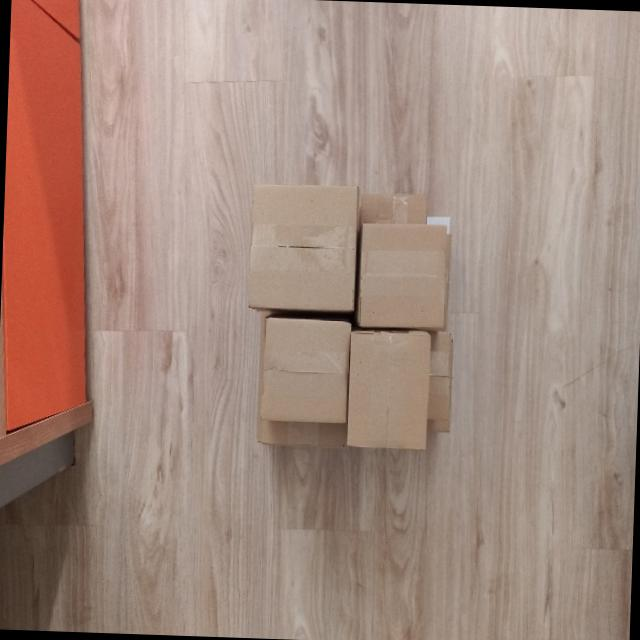box: (241, 178, 362, 318), (342, 326, 434, 454), (353, 220, 453, 334), (255, 314, 352, 428)
